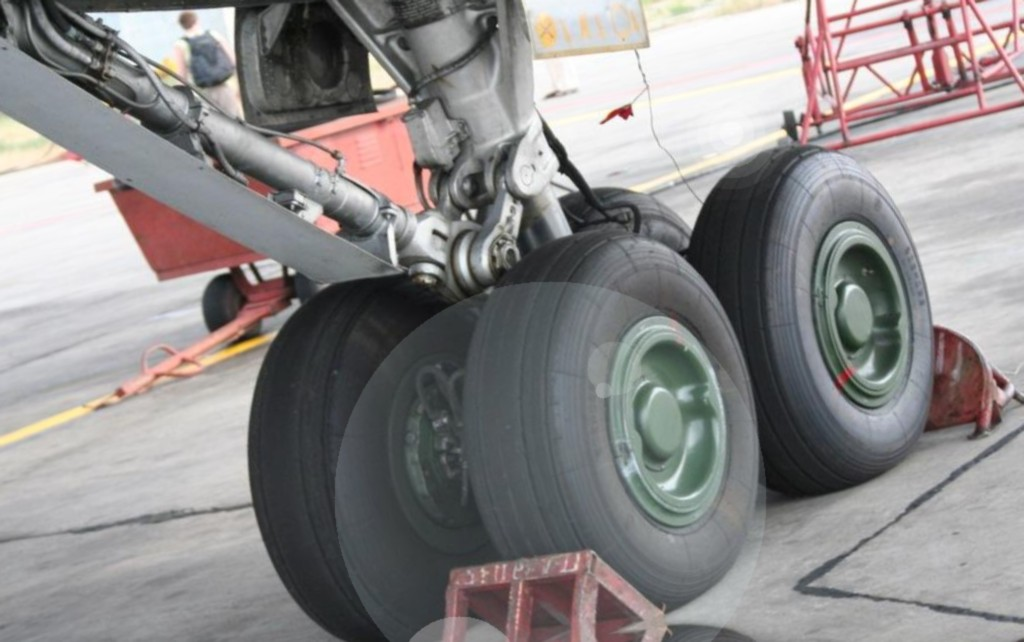chock: (410, 517, 670, 642), (901, 307, 1024, 451)
wheel: (418, 200, 805, 642), (206, 256, 544, 642), (680, 118, 971, 508), (551, 168, 694, 273)
